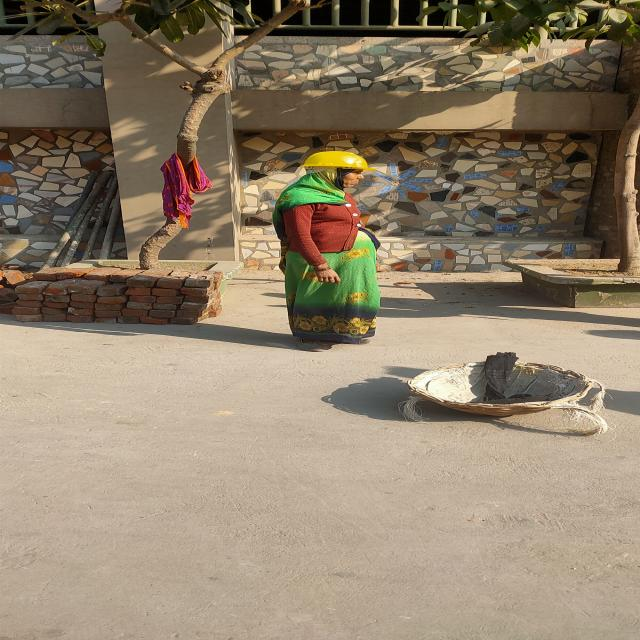no jacket: (274, 151, 383, 352)
